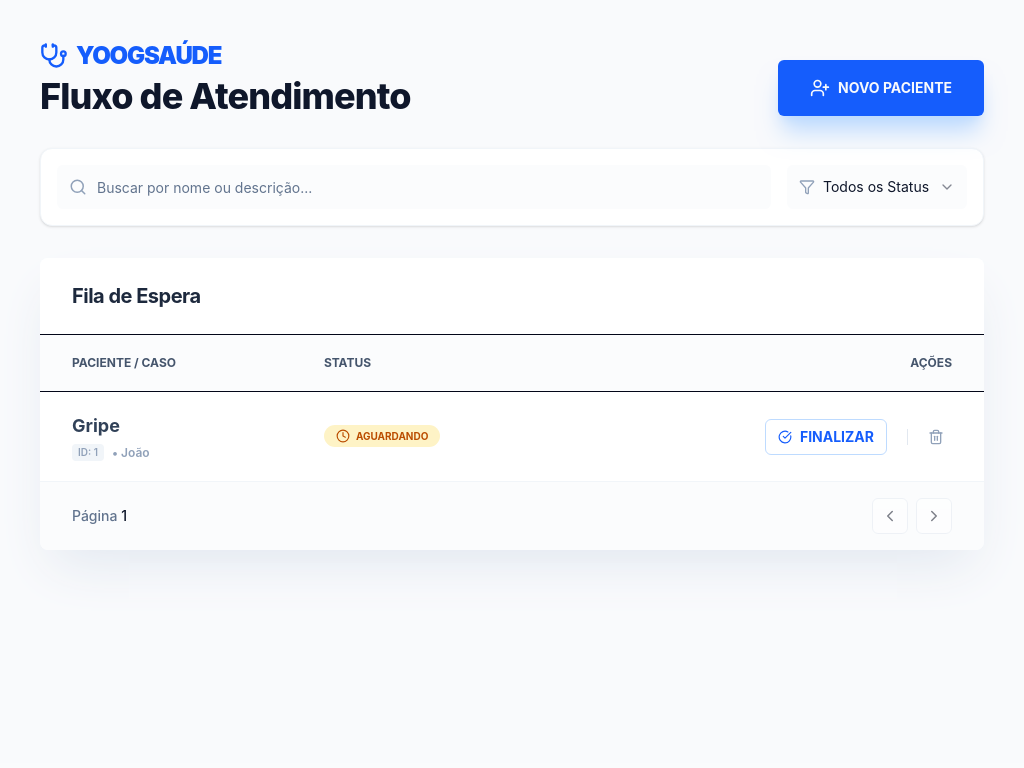
Test: Integração: App › deve exibir o modal de exclusão quando houver um agendamento
Click the button named "excluir": click(936, 437) [920, 421, 952, 453]
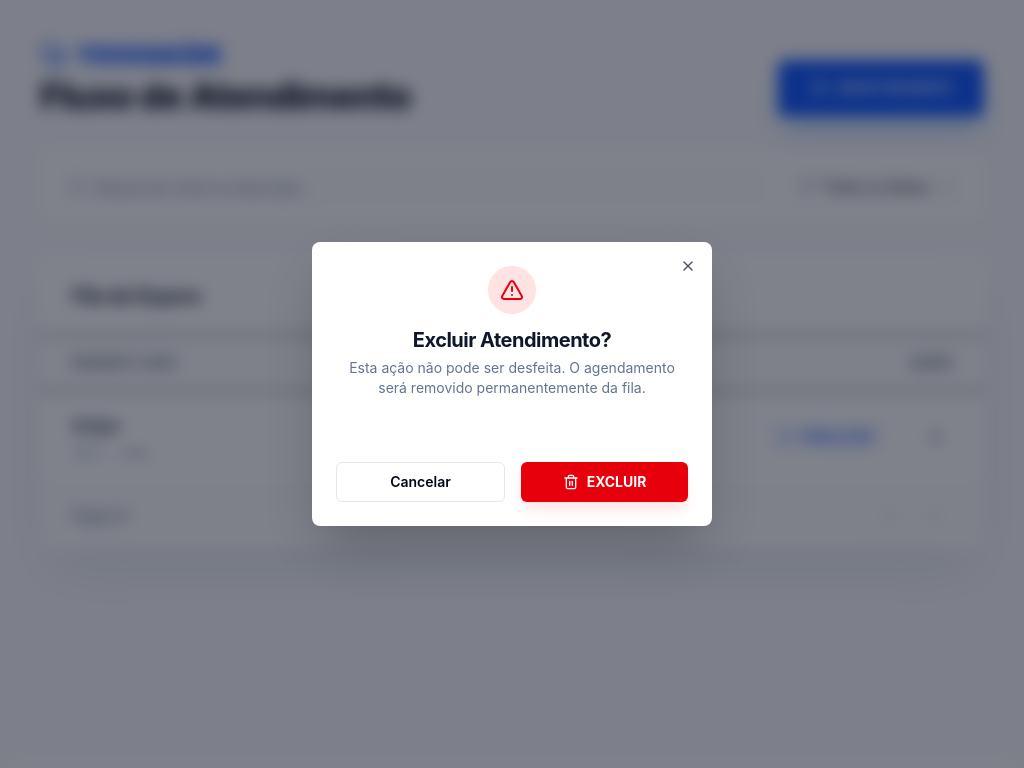
Result: the heading "Excluir Atendimento?" is shown at [413, 328, 611, 352]
